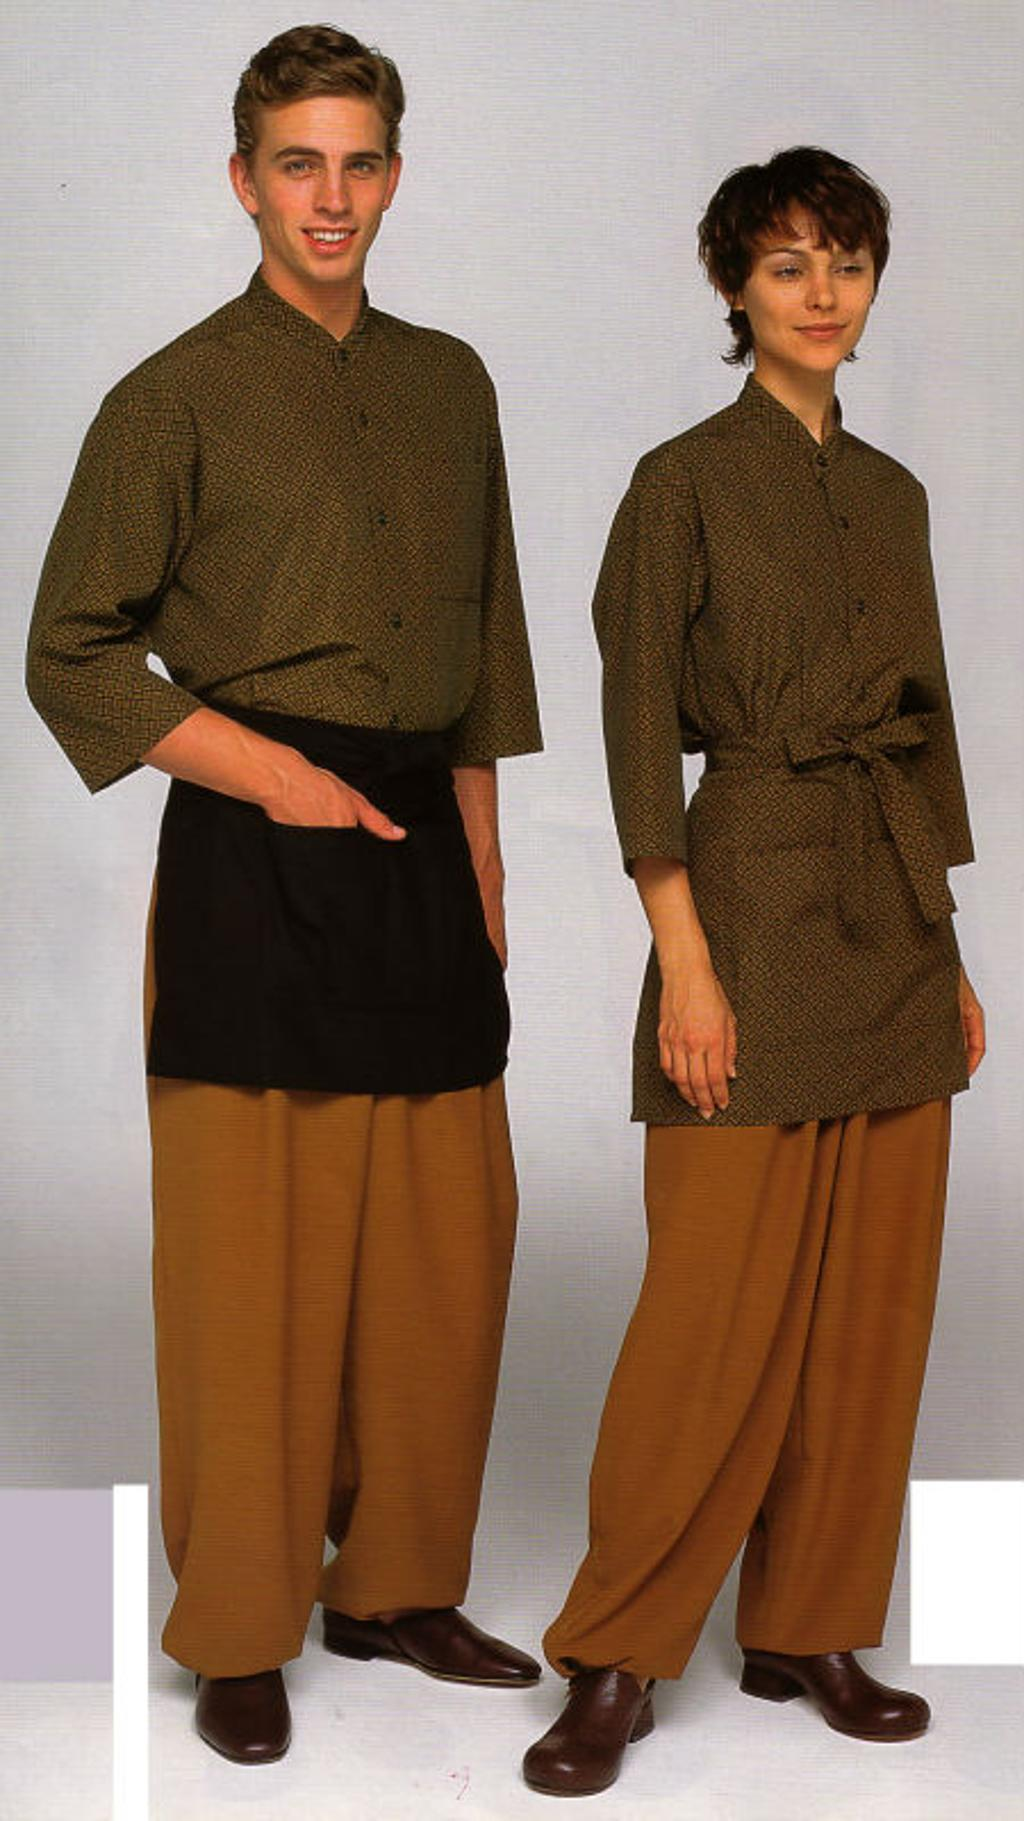face: (245, 92, 391, 291), (747, 199, 879, 370)
